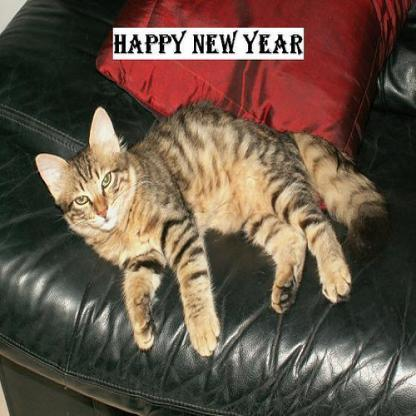cat: (46, 96, 394, 348)
